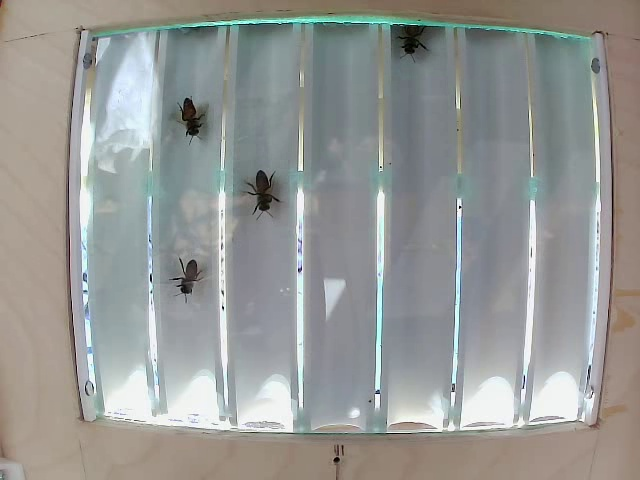bee: (159, 92, 216, 154), (388, 19, 437, 73), (170, 243, 210, 302), (237, 165, 283, 213)
